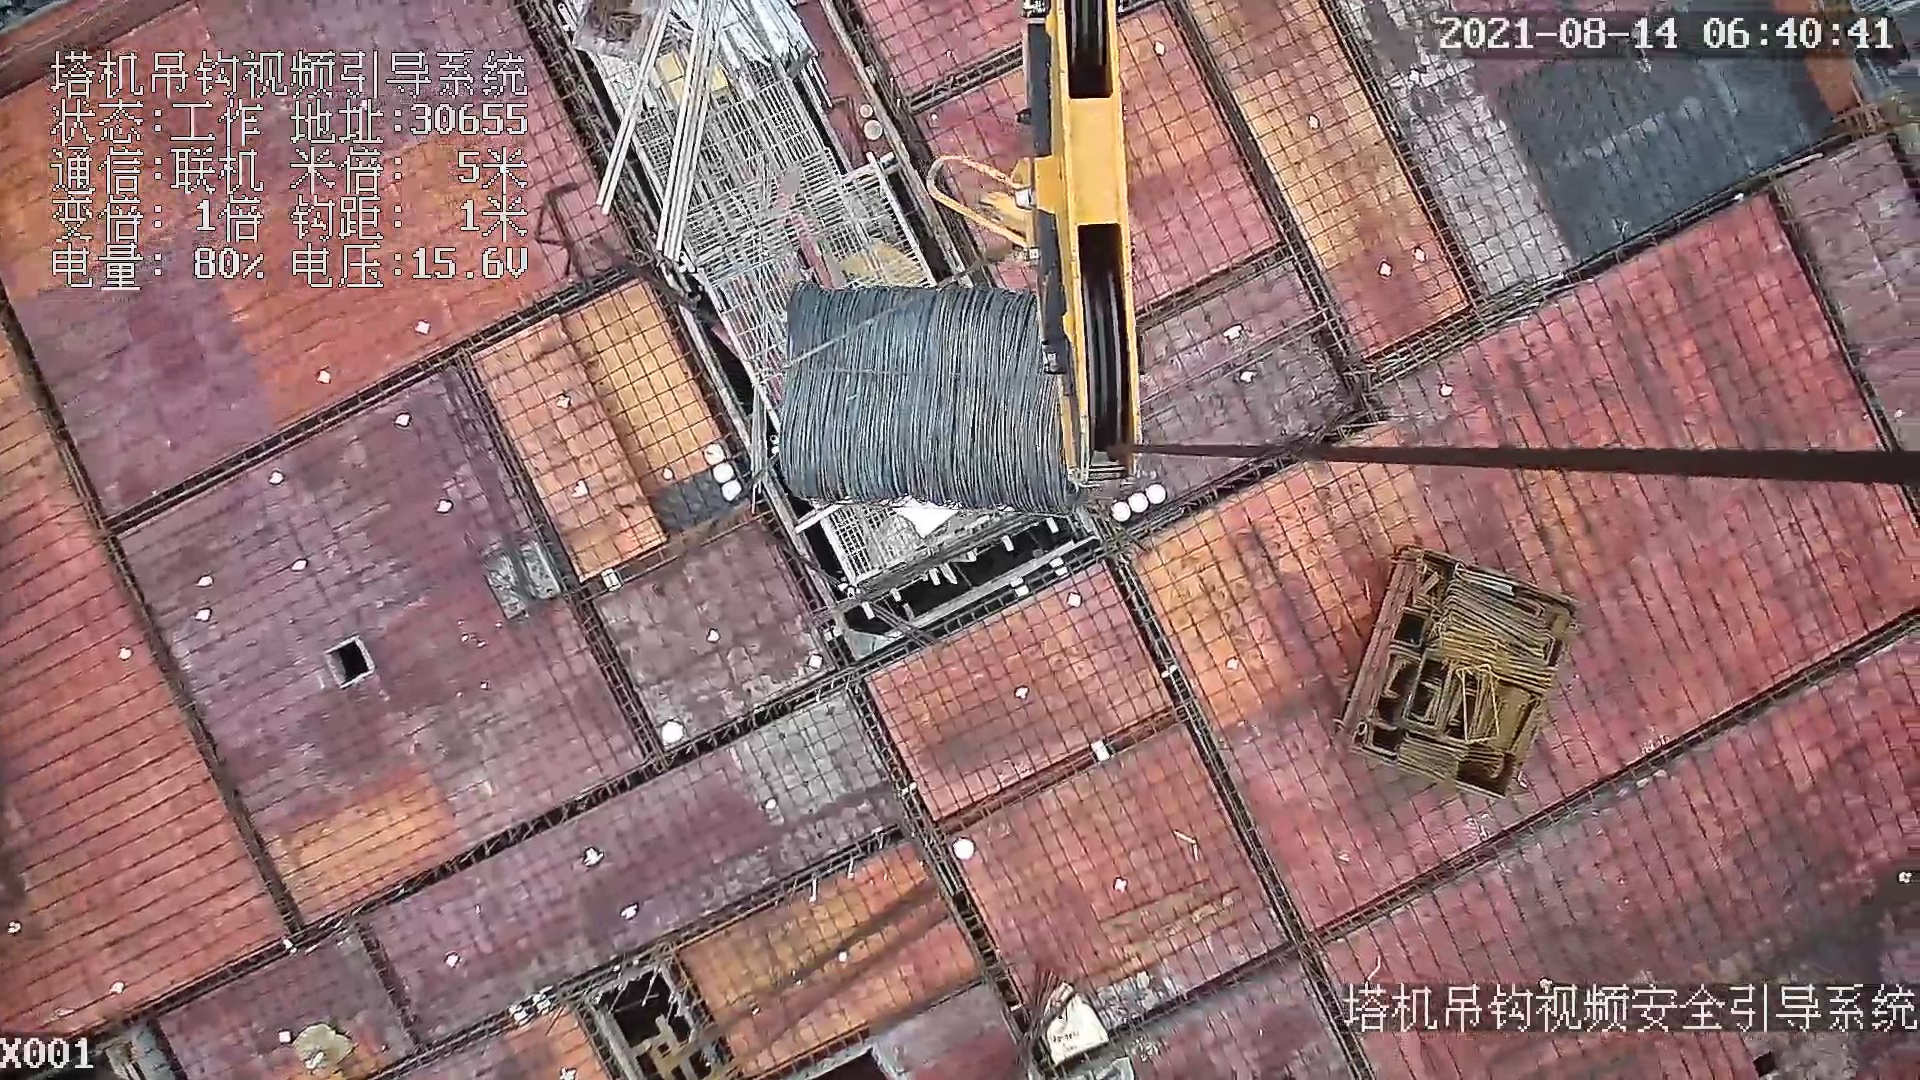hook: (924, 1, 1145, 487)
